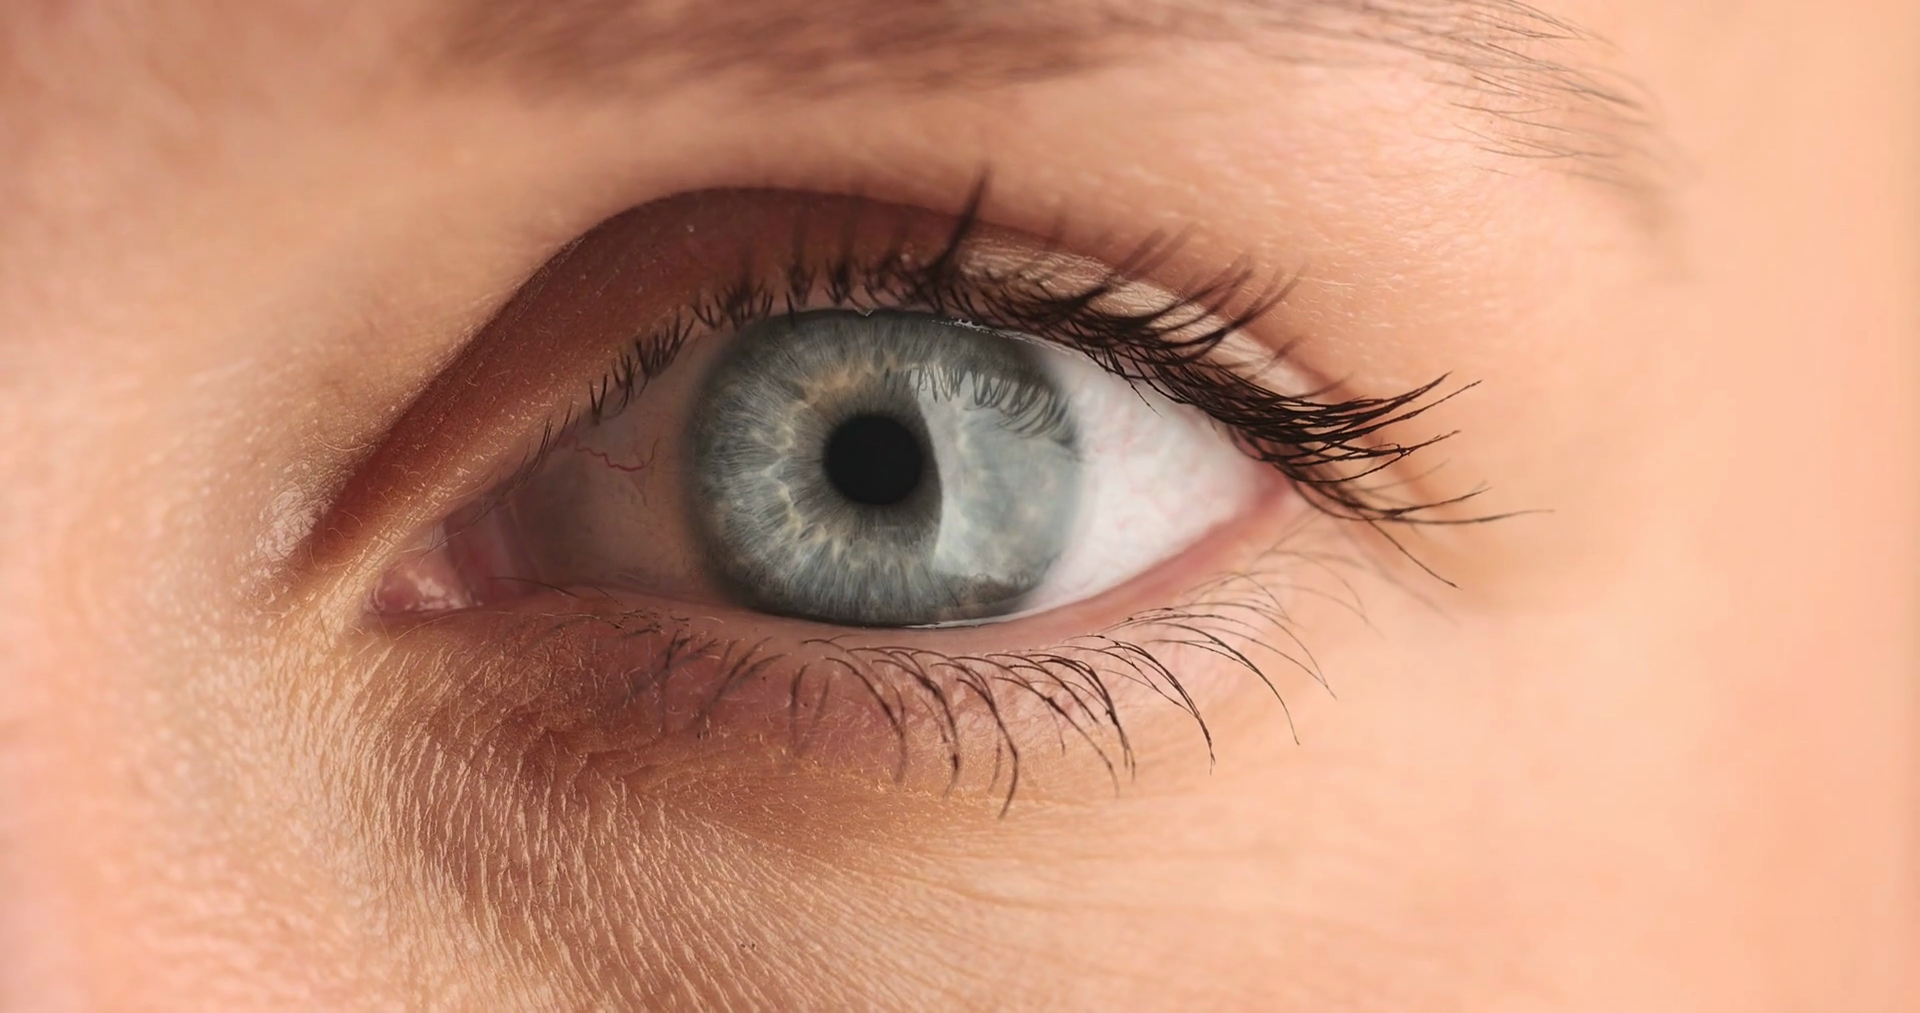iris: (678, 288, 1082, 632)
pupil: (815, 403, 938, 520)
